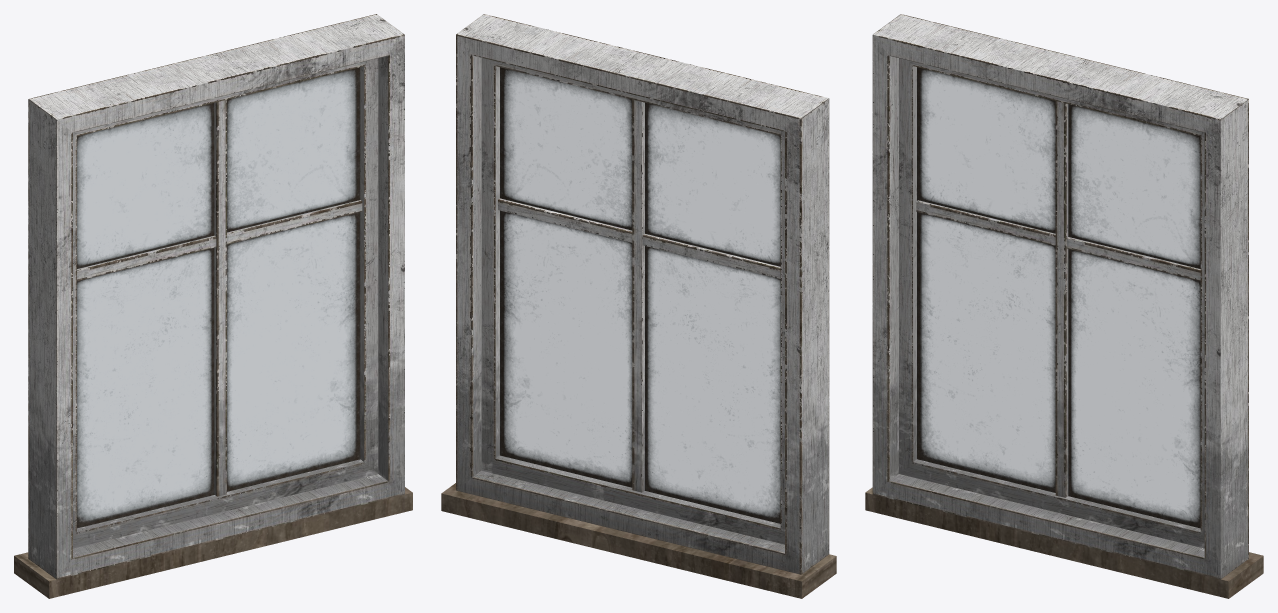
File: window_scene.gltf
3 renders of one model, left to right at view 1: azimuth 30°, elevation 25°; view 2: azimuth 150°, elevation 25°; view 3: azimuth 330°, elevation 25°, orthographic.
Parts seen in each view (by area): view 1: Glass_001, Window_001, Frame_001; view 2: Glass_001, Window_001, Frame_001; view 3: Glass_001, Window_001, Frame_001.
Part boxes in pixels (x1,y1,x2,y2): Glass_001: (77, 67, 360, 528); Window_001: (28, 14, 404, 579); Frame_001: (14, 487, 412, 598); Glass_001: (500, 67, 780, 523); Window_001: (456, 14, 829, 574); Frame_001: (441, 483, 836, 598); Glass_001: (917, 67, 1200, 528); Window_001: (872, 14, 1248, 579); Frame_001: (865, 487, 1263, 598).
Bounding box in the file's own units: 1.59 × 2 × 0.2661.
Materials: 2 (2 with a texture image).
